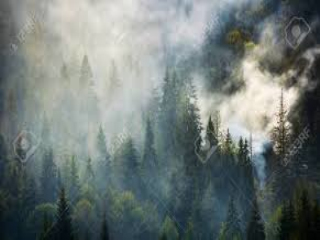smoke: (196, 62, 303, 150)
